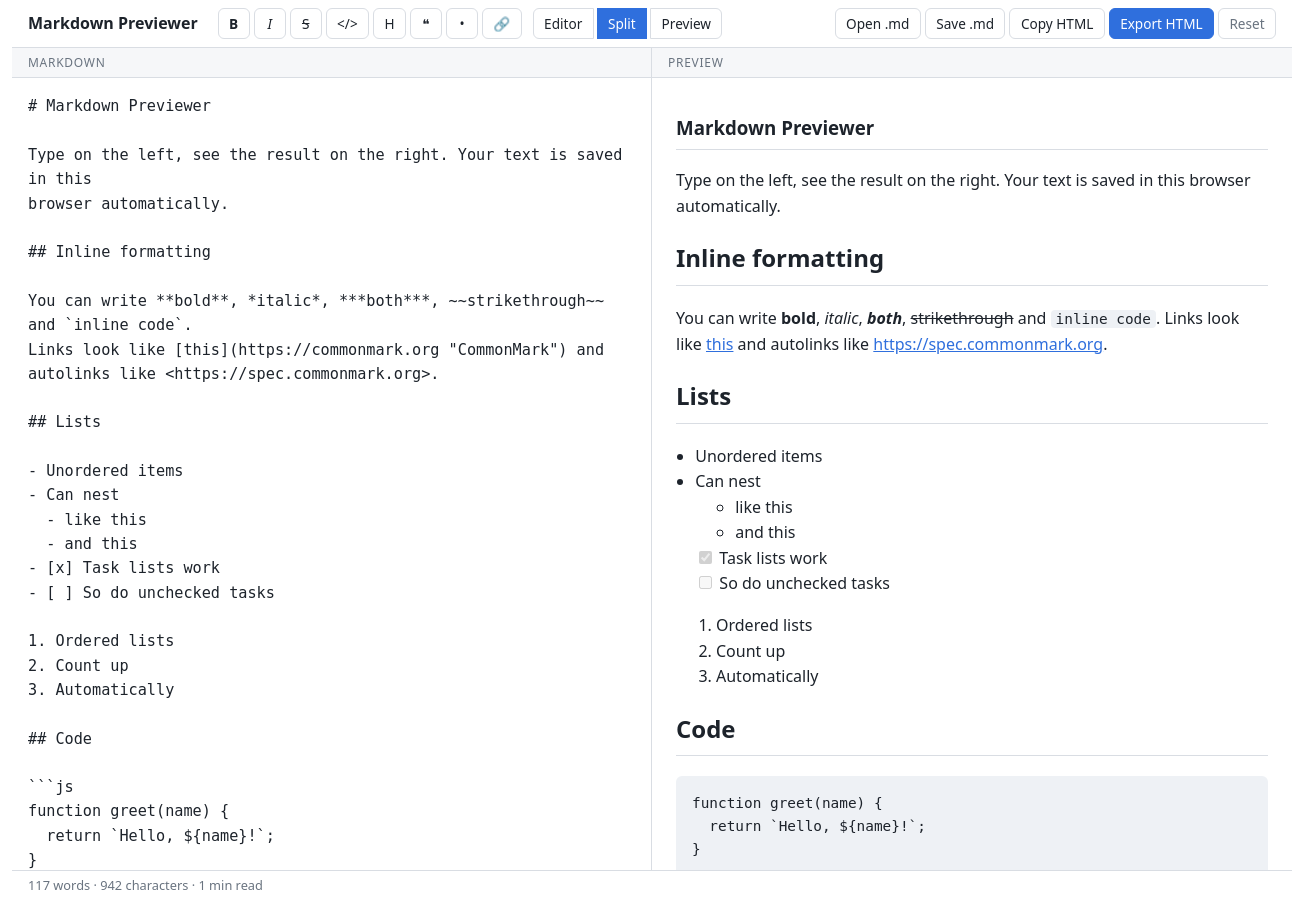
<App /> › switches between editor, split and preview layouts
Click the radio button labelled "Preview" at (686, 23), box [650, 8, 722, 39]
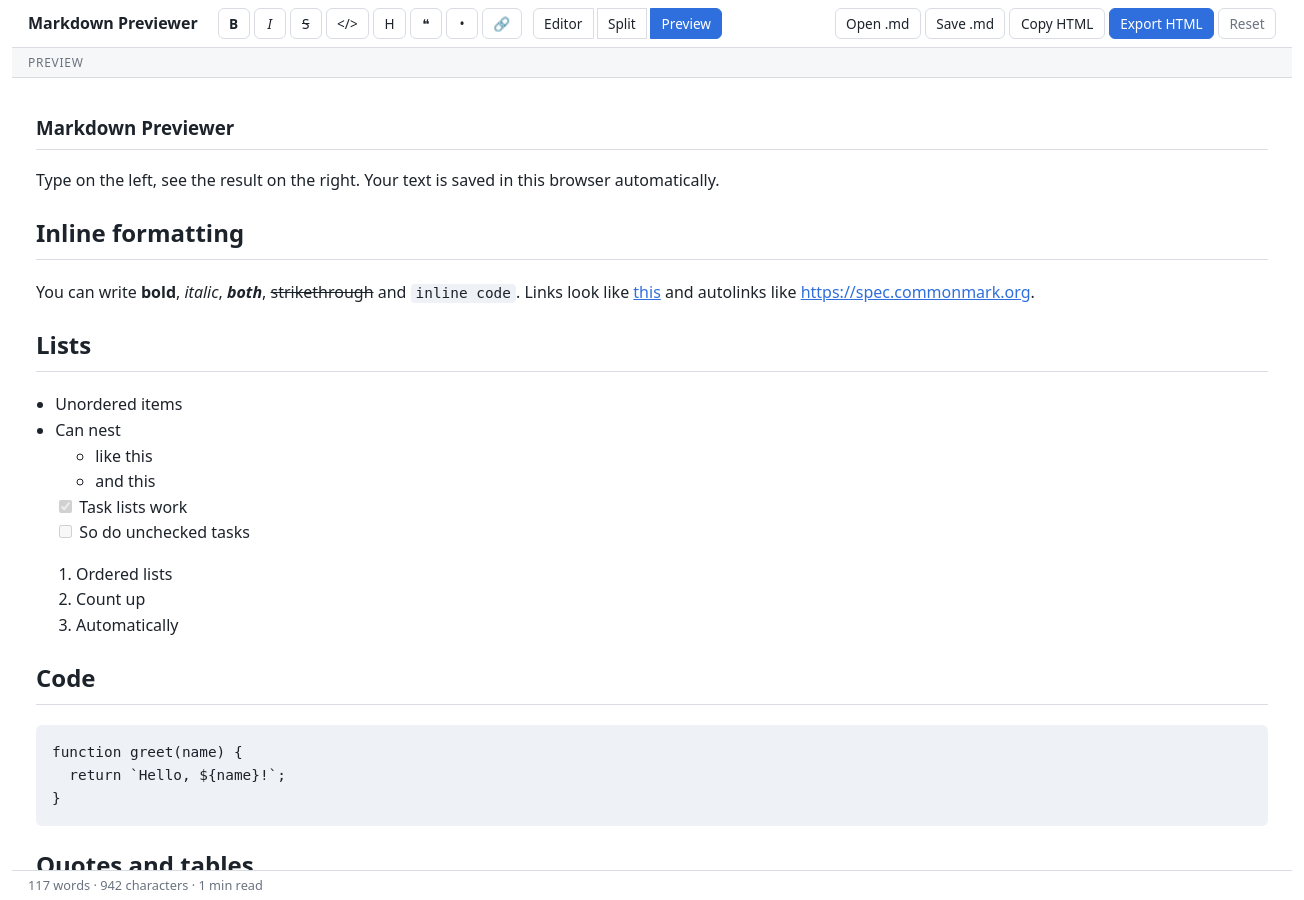
Expected: the text box labelled "Markdown editor" is gone
Click the radio button labelled "Editor" at (563, 23), box [533, 8, 594, 39]
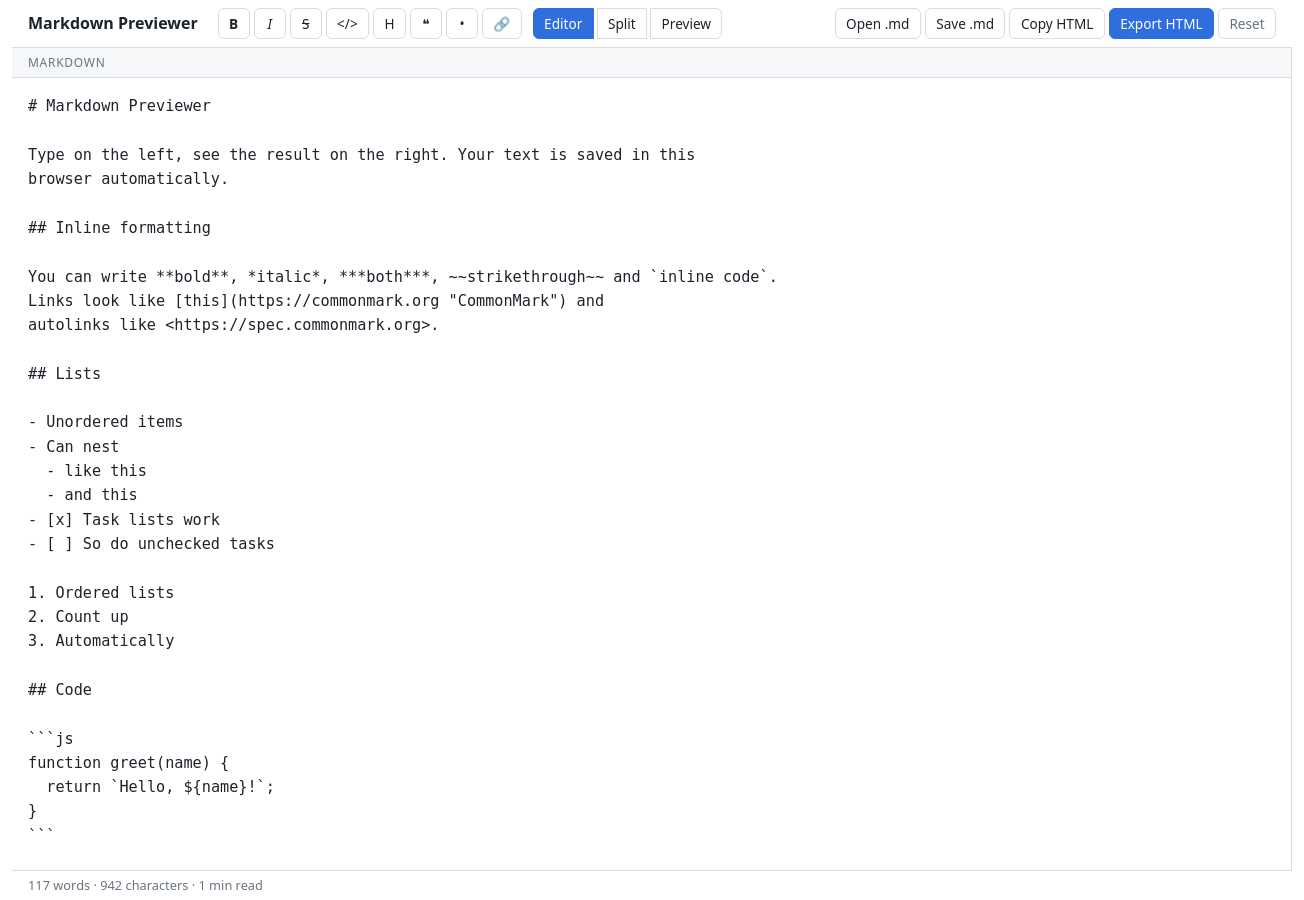
Expected: the element with test id "preview" is gone
Click the radio button labelled "Split" at (622, 23), box [597, 8, 647, 39]
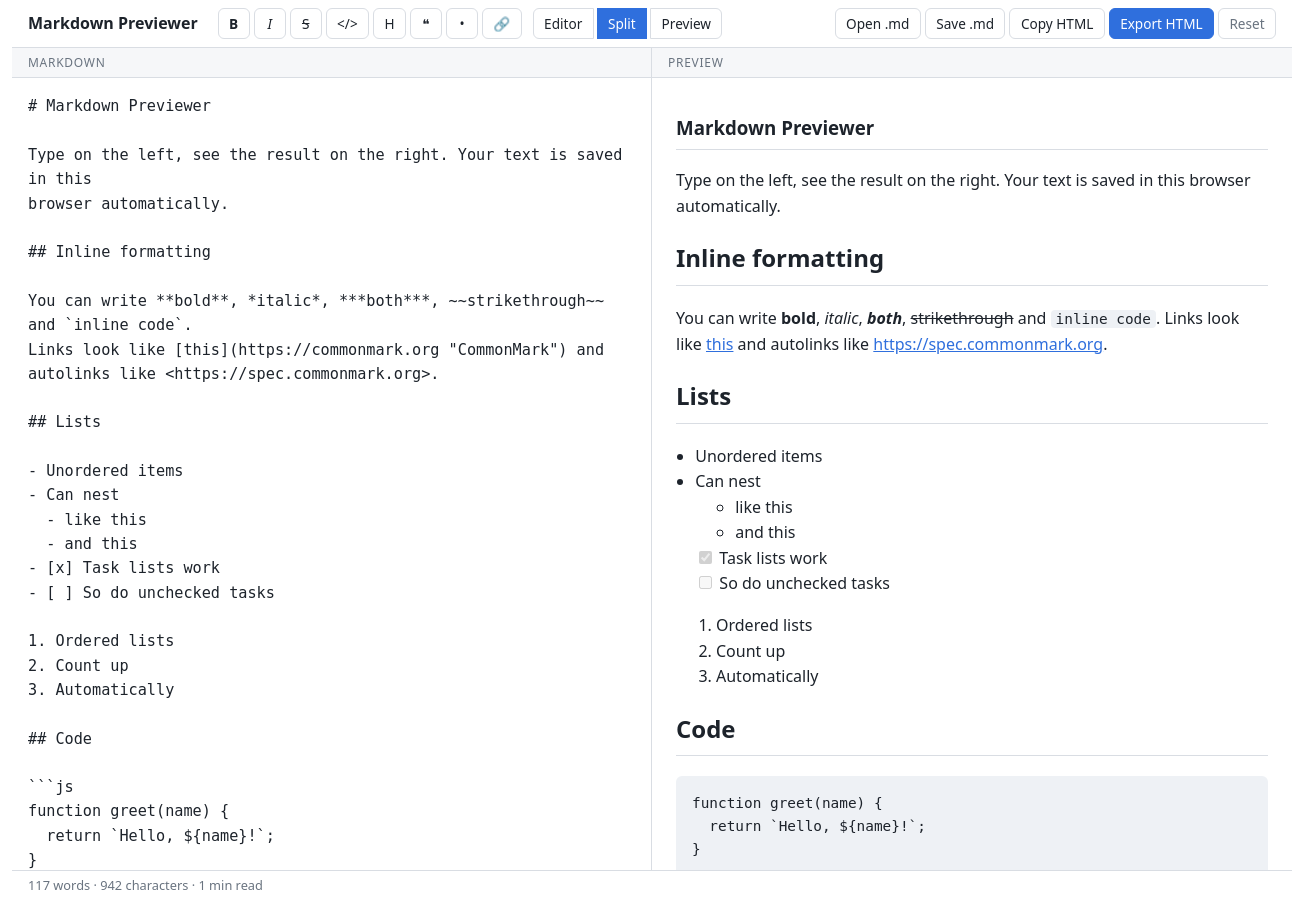
Expected: the text box named "Markdown editor" is shown, [12, 78, 651, 870]
Expected: the element with test id "preview" is shown, [652, 78, 1292, 870]
